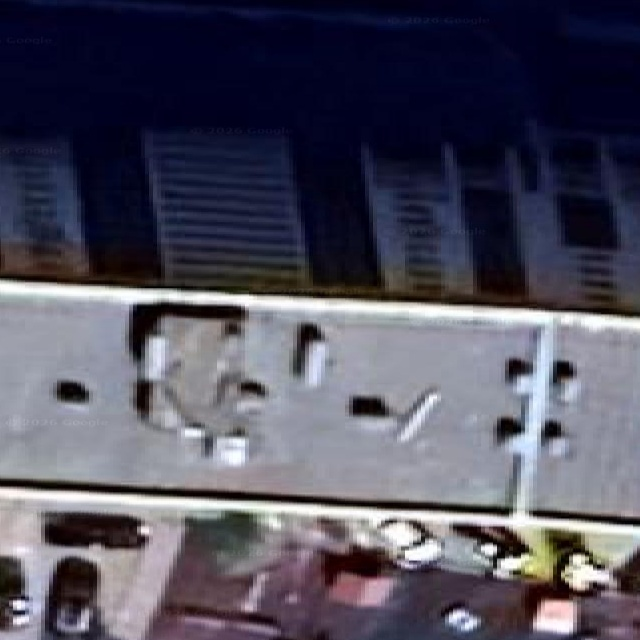car: (44, 556, 99, 639), (453, 524, 531, 575), (44, 512, 150, 547), (376, 517, 442, 567), (555, 548, 612, 593), (0, 555, 31, 630), (440, 603, 480, 632)
